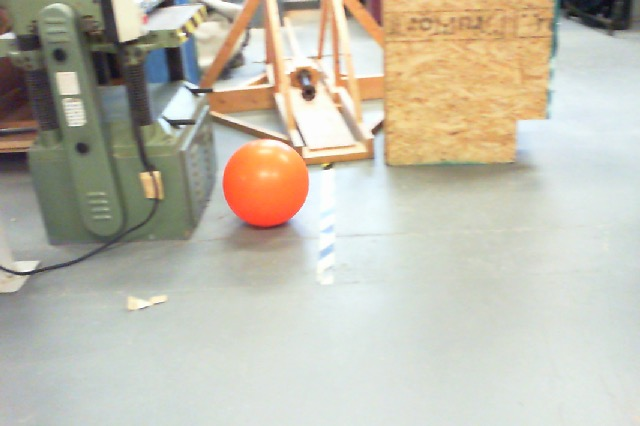Ball: (223, 139, 309, 226)
